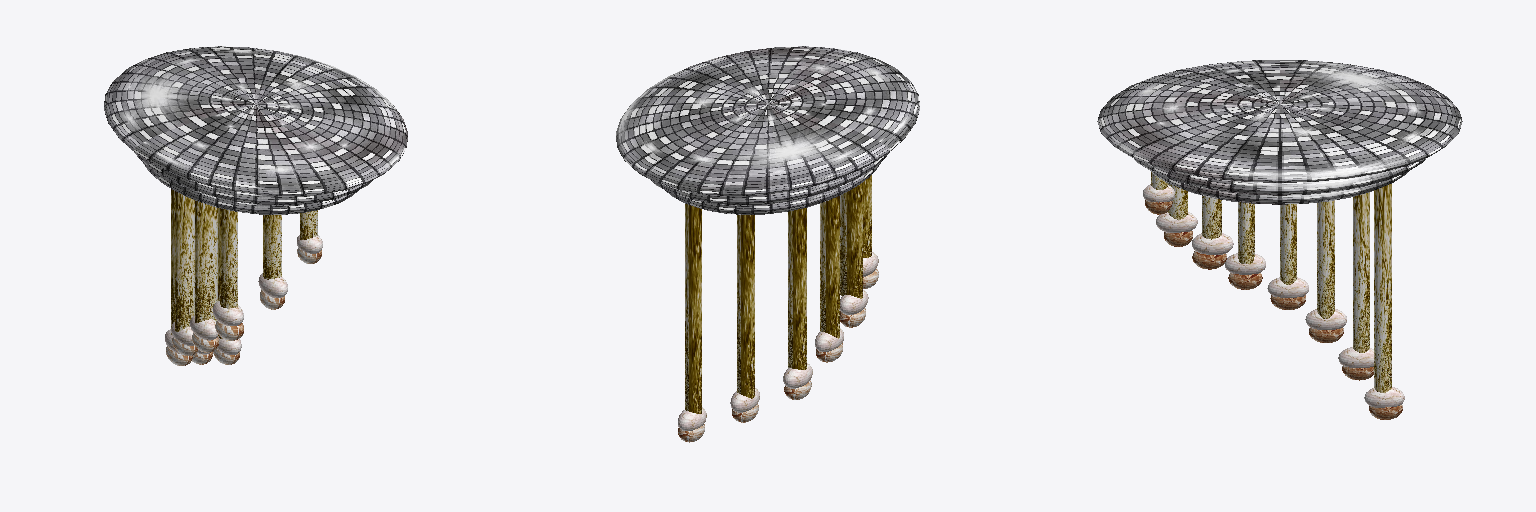
3 views of the same model, side by side, from view 1: azimuth 30°, elevation 25°; view 2: azimuth 150°, elevation 25°; view 3: azimuth 270°, elevation 25° (orthographic).
Visible parts, largest first — view 1: Sphere.018; view 2: Sphere.018; view 3: Sphere.018.
Part boxes in pixels (left/top/right/bottom): Sphere.018: left=104, top=46, right=407, bottom=365; Sphere.018: left=616, top=46, right=919, bottom=442; Sphere.018: left=1097, top=60, right=1462, bottom=419.
Size of the model in its own units: 3.78 by 4.49 by 4.9.
27 materials, 4 textured.